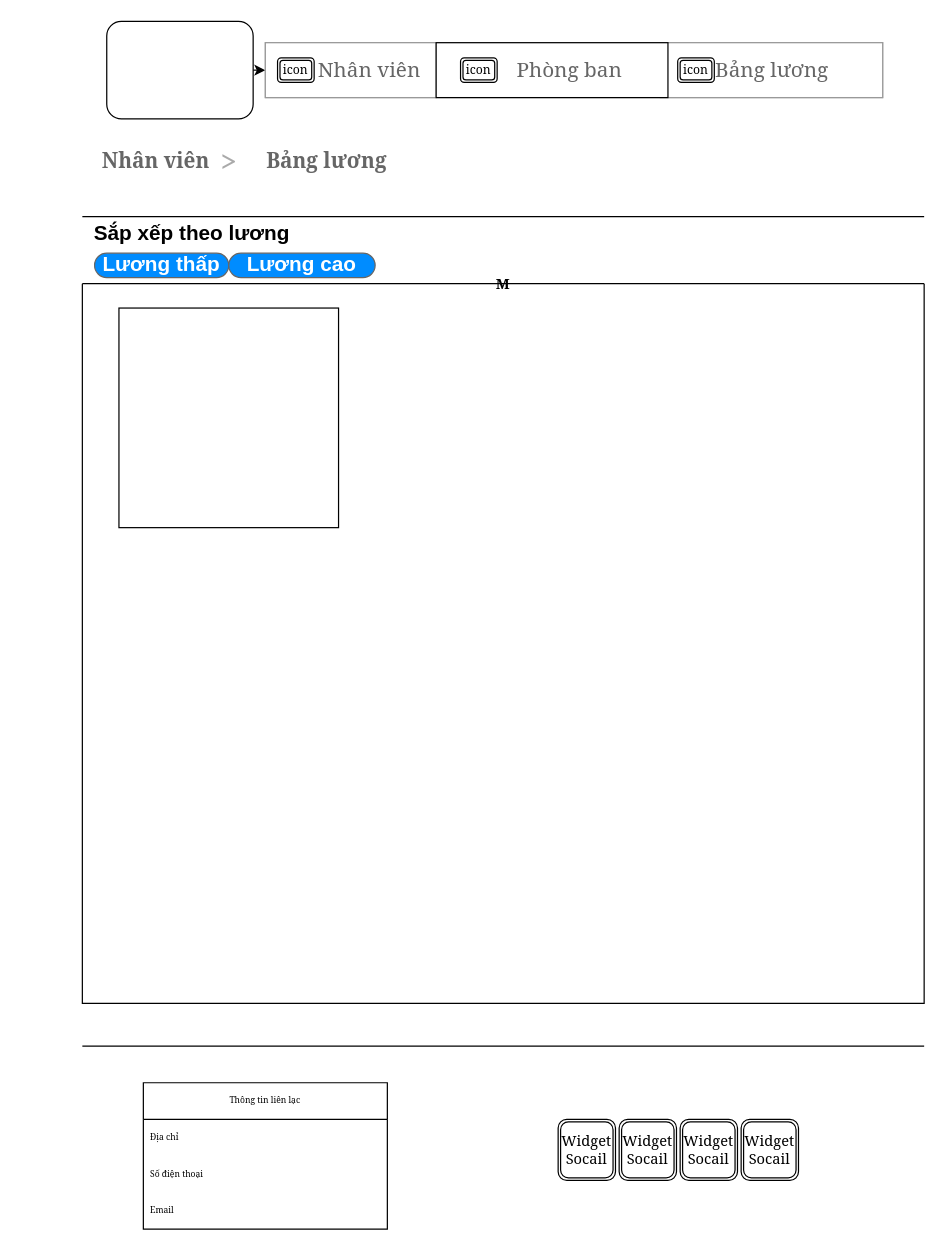
The diagram is 947 pixels wide and 1251 high, and some of its shapes have lost their labels. Here are the shapes that lost their labels. From the top down, the centre of each, then its label:
At (179,69): "LOGO".
At (228,417): "Mã nhân viên: Hệ số lương Số ngày làm thêm".
